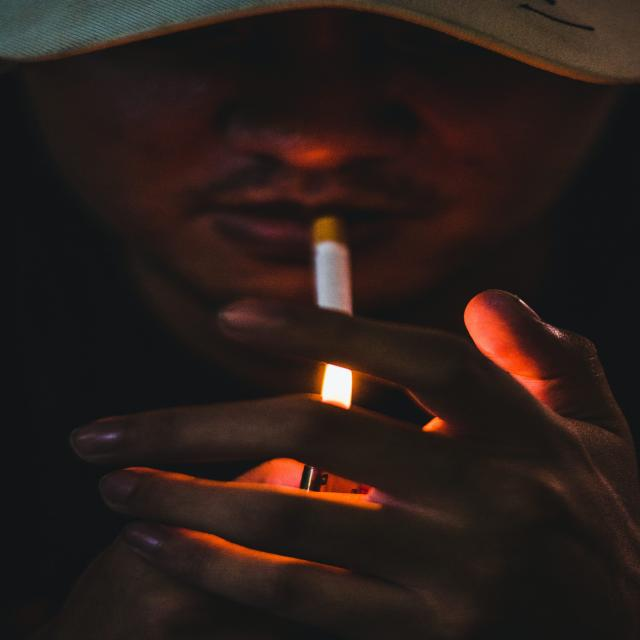fire: (322, 363, 352, 410)
